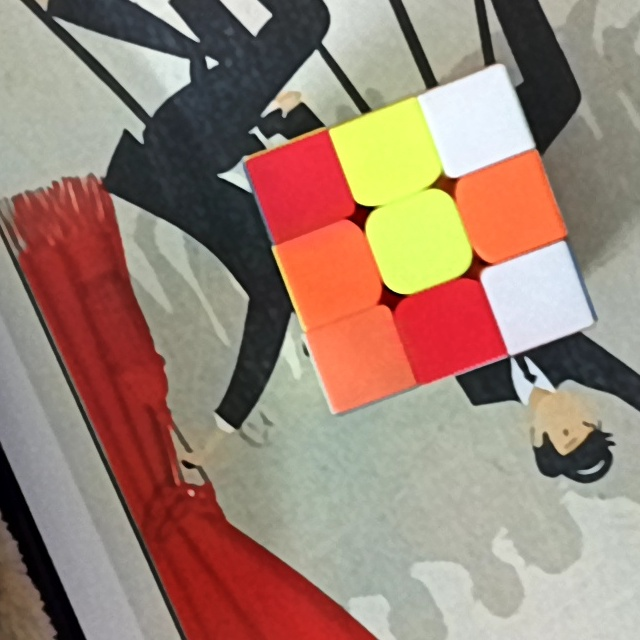tile: (263, 155, 334, 222), (387, 209, 458, 276), (297, 240, 363, 310), (440, 91, 512, 154), (476, 175, 542, 243), (411, 298, 481, 361), (353, 125, 418, 189), (505, 266, 568, 329), (334, 325, 392, 390)
